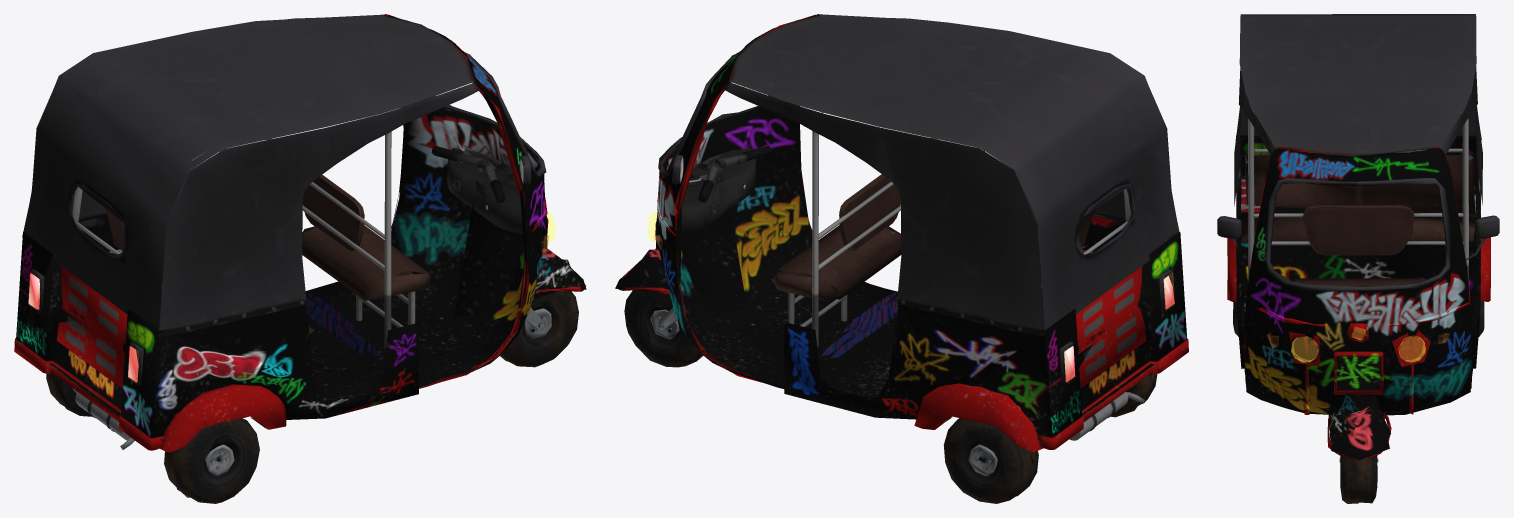
File: street_tuk_tuk_lod.glb
The picture shows the model from 3 angles, left to right: view 1: azimuth 30°, elevation 25°; view 2: azimuth 150°, elevation 25°; view 3: azimuth 270°, elevation 25°; orthographic projection. The views are drawn at different scales.
Visible parts, largest first — view 1: Object_109, Object_61, Object_19, Object_154, Object_75, Object_17, Object_107, Object_95, Object_6, Object_29, Object_77, Object_39 (+9 smaller); view 2: Object_109, Object_61, Object_19, Object_154, Object_75, Object_17, Object_107, Object_95, Object_6, Object_29, Object_77, Object_39 (+9 smaller); view 3: Object_109, Object_61, Object_25, Object_23, Object_77, Object_73, Object_33, Object_19, Object_27, Object_121, Object_63, Object_6 (+12 smaller).
Part boxes in pixels (x1,y1,x2,y2): Object_109: [22, 14, 478, 336]; Object_61: [305, 15, 546, 397]; Object_19: [16, 213, 418, 437]; Object_154: [46, 373, 259, 503]; Object_75: [302, 225, 430, 300]; Object_17: [56, 266, 127, 388]; Object_107: [454, 203, 523, 317]; Object_95: [160, 384, 286, 452]; Object_6: [500, 289, 578, 367]; Object_29: [447, 148, 522, 233]; Object_77: [302, 174, 364, 250]; Object_39: [14, 338, 165, 450]; Object_109: [724, 14, 1179, 336]; Object_61: [657, 14, 897, 397]; Object_19: [784, 213, 1187, 437]; Object_154: [943, 373, 1157, 503]; Object_75: [772, 225, 901, 301]; Object_17: [1076, 266, 1146, 388]; Object_107: [681, 204, 748, 317]; Object_95: [914, 383, 1043, 452]; Object_6: [624, 290, 703, 367]; Object_29: [681, 148, 756, 233]; Object_77: [839, 174, 900, 250]; Object_39: [1038, 338, 1188, 449]; Object_109: [1234, 14, 1482, 205]; Object_61: [1244, 147, 1473, 415]; Object_25: [1241, 174, 1476, 316]; Object_23: [1244, 152, 1475, 213]; Object_77: [1303, 205, 1413, 255]; Object_73: [1328, 393, 1390, 460]; Object_33: [1264, 178, 1450, 291]; Object_19: [1236, 135, 1480, 368]; Object_27: [1241, 212, 1474, 243]; Object_121: [1248, 103, 1468, 283]; Object_63: [1288, 328, 1430, 366]; Object_6: [1340, 453, 1377, 503].
Size of what is drawn, in the model's own units: 3.04 by 2.06 by 1.63.
Materials: 6 (3 with a texture image).
